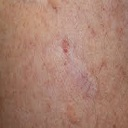Carcinoma: (58, 35, 75, 66)
